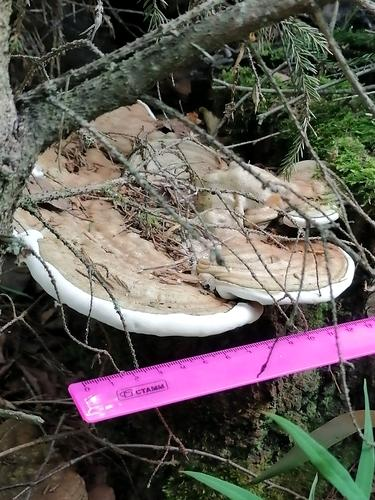Ganoderma - Fruit Body: (19, 99, 356, 334)
